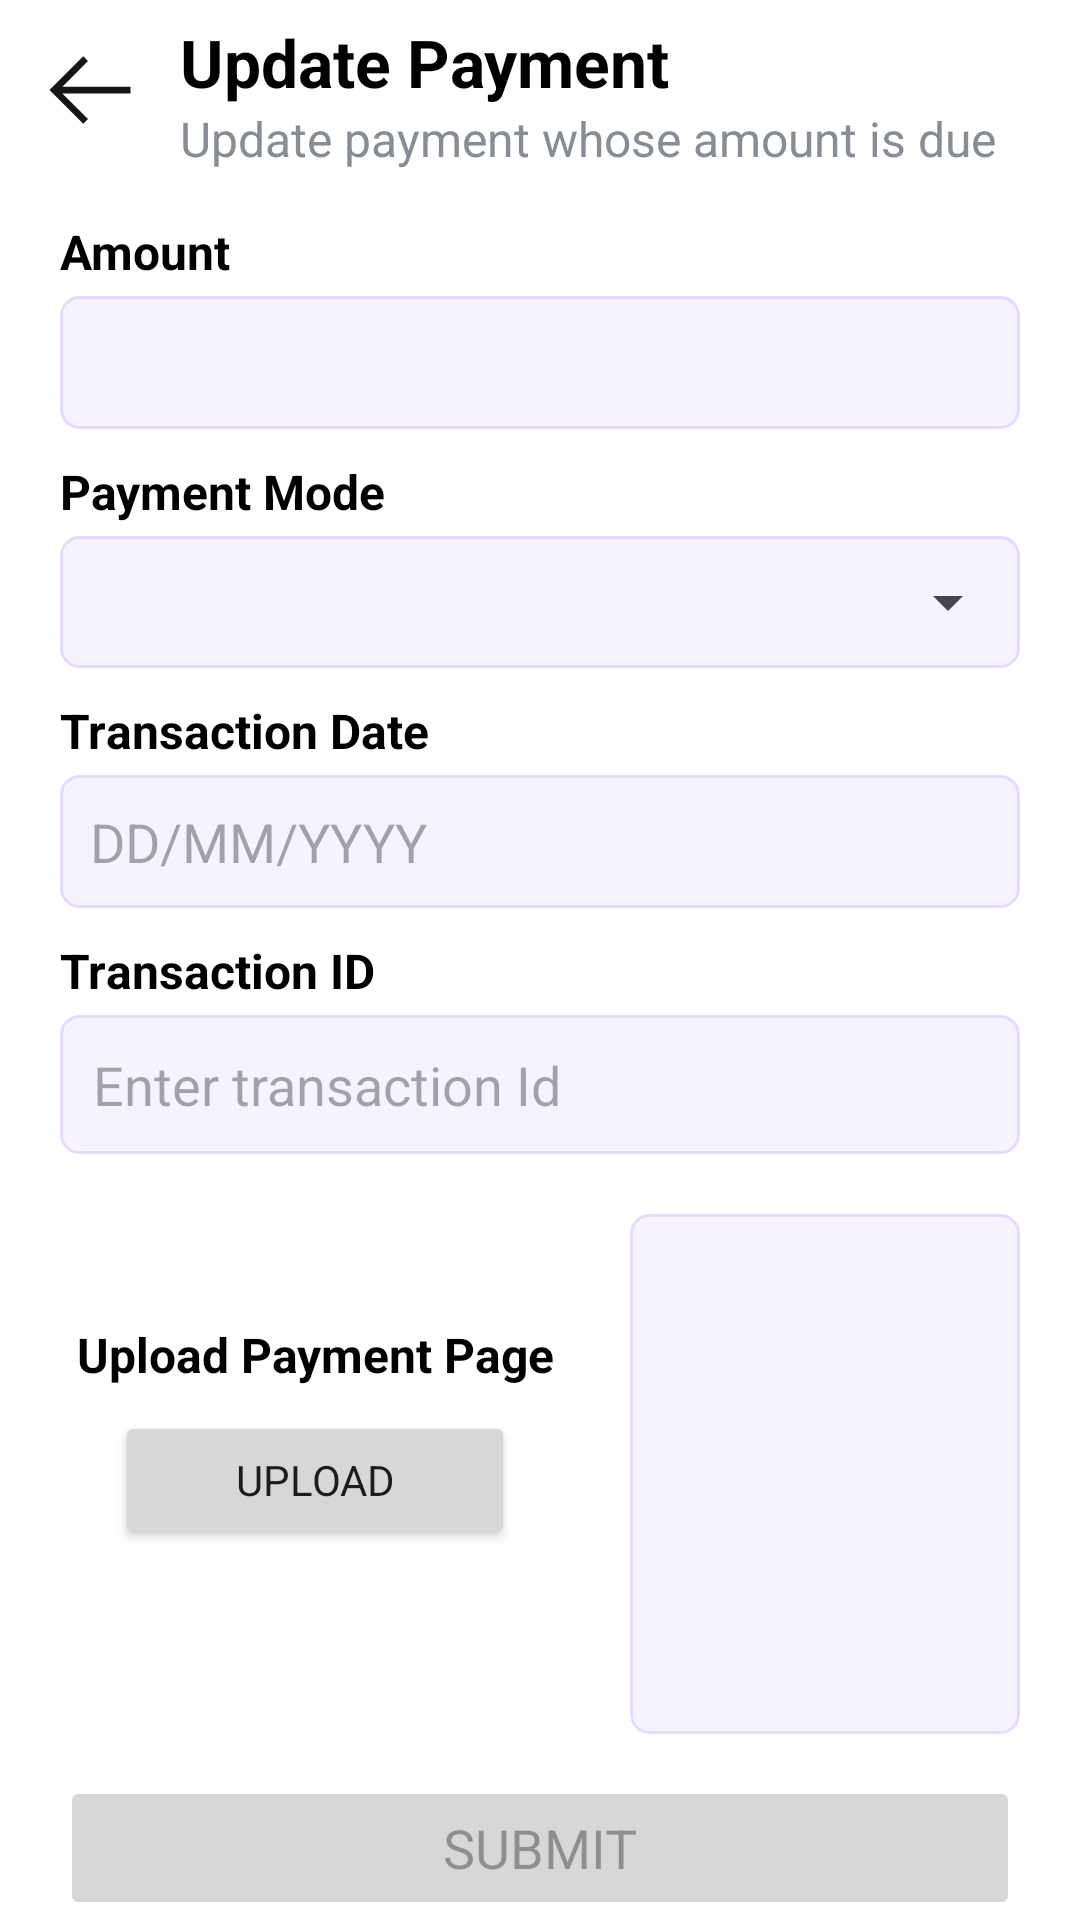

Screen size 1080px×1920px. Icon name, then its box in pixels as bbox=[x1, y1, x2, y2]:
back: bbox=[49, 56, 131, 124]
